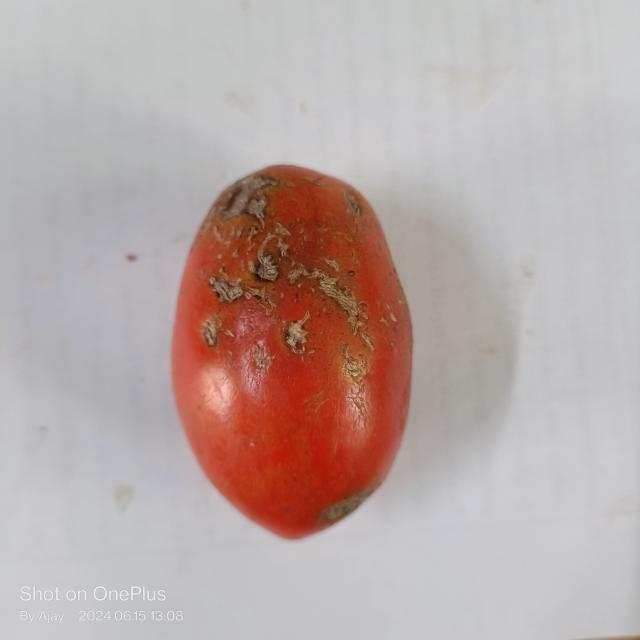Bacterial_Spot: (299, 257, 379, 320), (216, 166, 276, 230), (210, 268, 252, 307), (252, 250, 289, 292), (278, 314, 312, 358), (200, 315, 221, 350), (342, 191, 363, 223)
